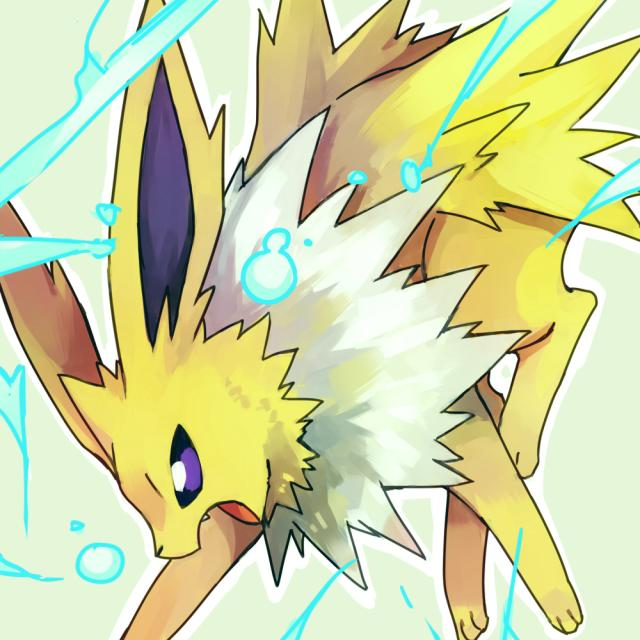Jolteon: (65, 81, 597, 575)
